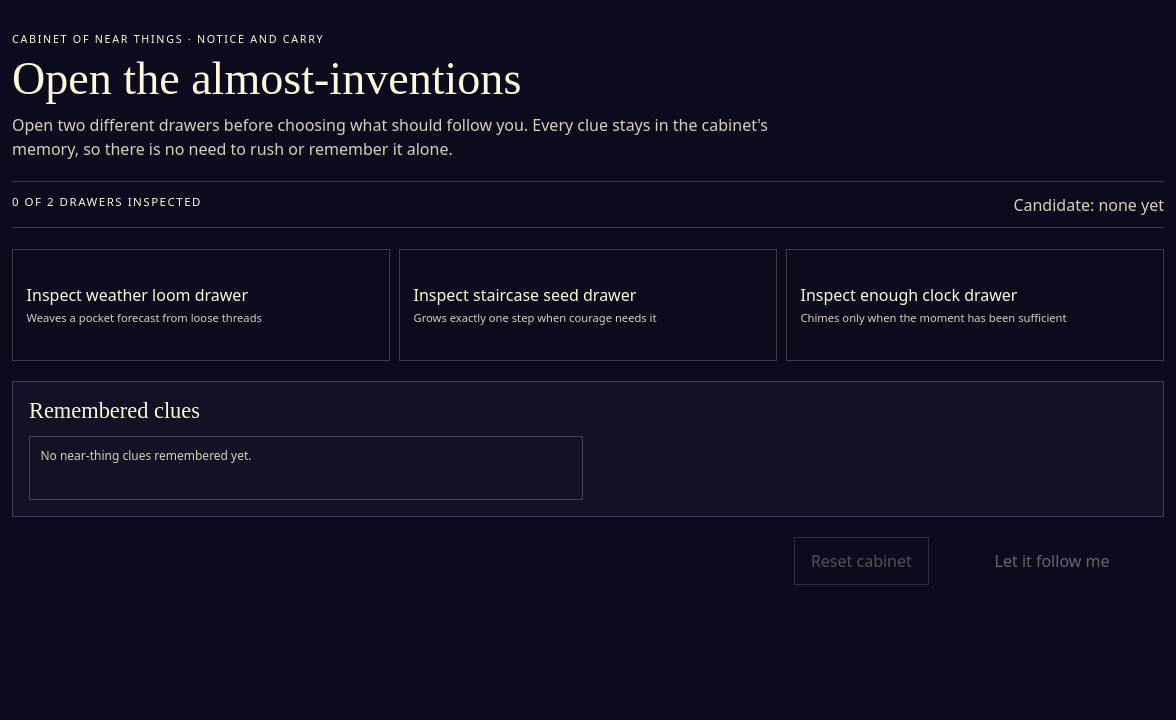
CabinetExperience › resets remembered clues and the candidate without completing
Click the button "Inspect weather loom drawer" at x=201, y=305, box [12,249,390,361]
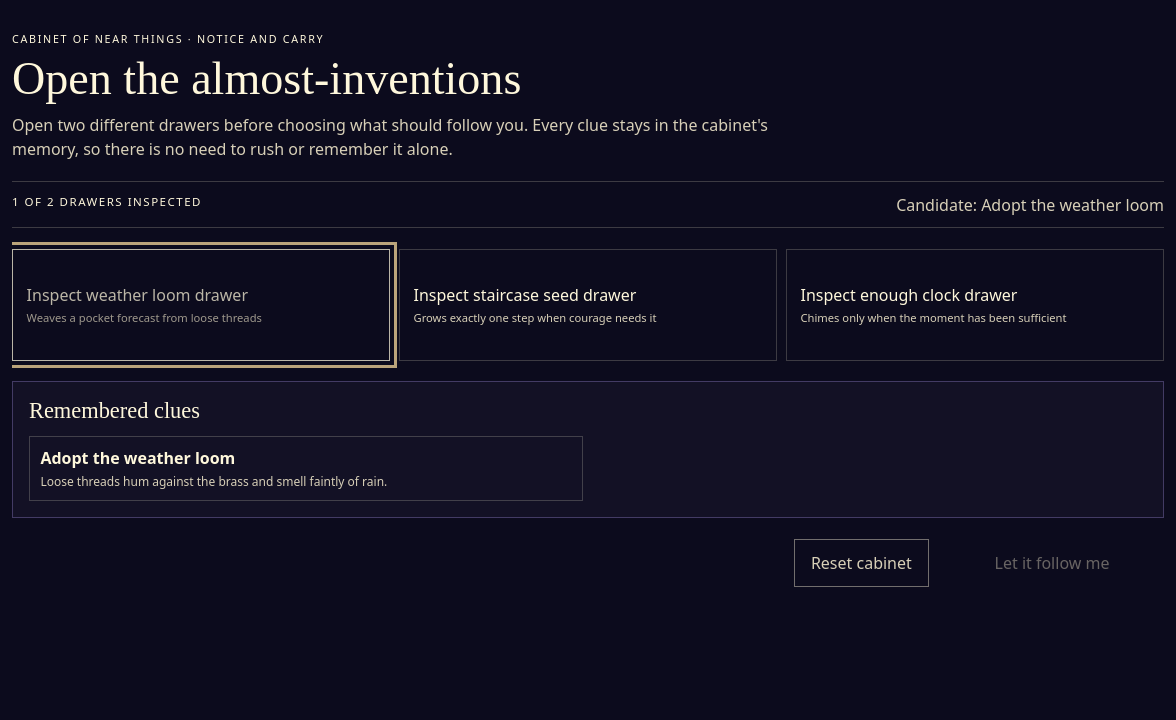
Click the button "Inspect enough clock drawer" at x=975, y=305, box [786,249,1164,361]
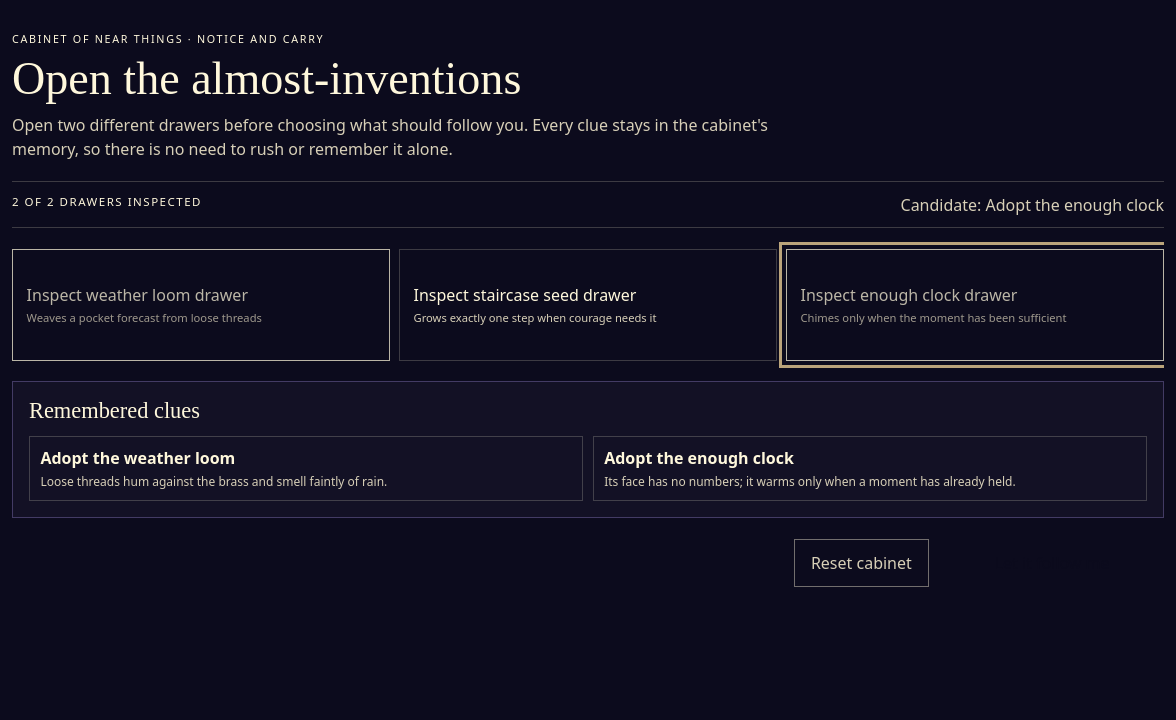
Click the button "Reset cabinet" at x=861, y=563, box [794,539,929,587]
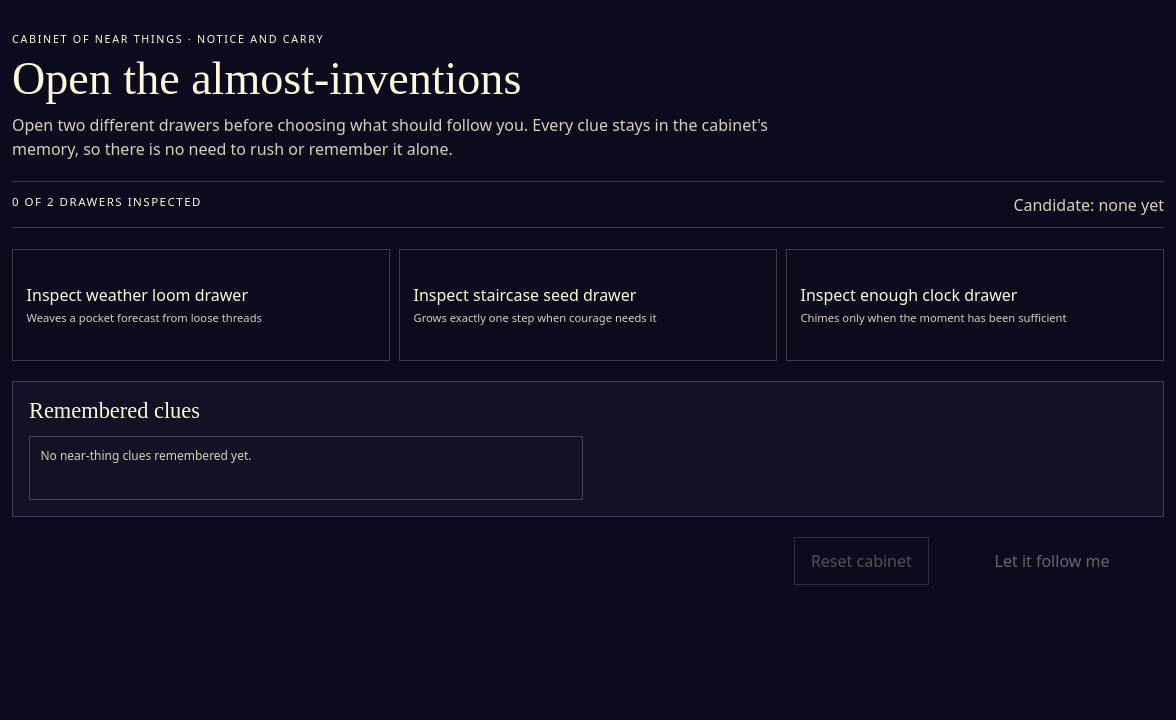
Now the text "0 of 2 drawers inspected" is shown, box [12,194,202,216]
Now the text "Candidate: none yet" is shown, box [1013,194,1164,216]
Now the button "Let it follow me" is disabled, box [940,537,1164,585]
